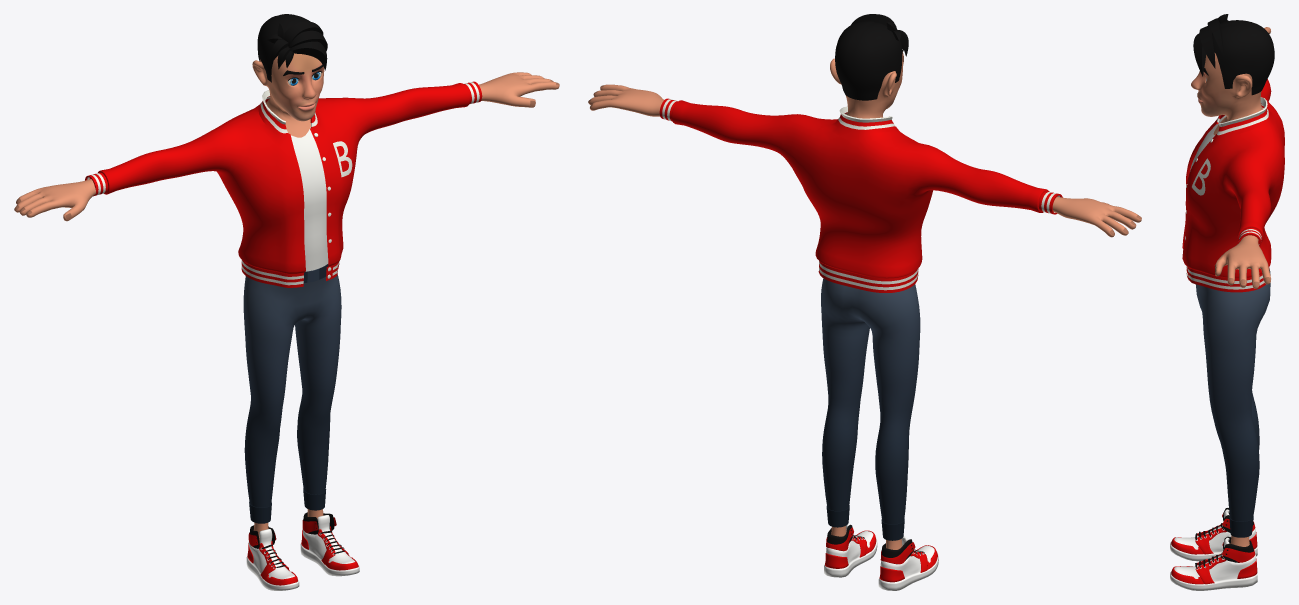
Rendered from Character_3.obj.
3 views of the same model, side by side, from view 1: azimuth 30°, elevation 25°; view 2: azimuth 150°, elevation 25°; view 3: azimuth 270°, elevation 25° (orthographic).
Parts seen in each view (by area): view 1: D_1_mesh.001, D_3_mesh.002, Body_Vucud.006, Shoes_Back.001, D_2_mesh, Hair_NurbsPath.009; view 2: D_1_mesh.001, D_3_mesh.002, Body_Vucud.006, Hair_NurbsPath.009, Shoes_Back.001; view 3: D_1_mesh.001, D_3_mesh.002, Body_Vucud.006, Shoes_Back.001, Hair_NurbsPath.009, D_2_mesh.
Part boxes in pixels (x1=…): D_1_mesh.001: x1=85, y1=81, x2=482, y2=287; D_3_mesh.002: x1=243, y1=264, x2=341, y2=523; Body_Vucud.006: x1=14, y1=53, x2=559, y2=547; Shoes_Back.001: x1=246, y1=512, x2=359, y2=590; D_2_mesh: x1=291, y1=127, x2=328, y2=271; Hair_NurbsPath.009: x1=257, y1=14, x2=327, y2=82; D_1_mesh.001: x1=659, y1=98, x2=1062, y2=292; D_3_mesh.002: x1=821, y1=278, x2=920, y2=540; Body_Vucud.006: x1=588, y1=52, x2=1141, y2=561; Hair_NurbsPath.009: x1=835, y1=14, x2=908, y2=100; Shoes_Back.001: x1=824, y1=524, x2=938, y2=590; D_1_mesh.001: x1=1182, y1=79, x2=1284, y2=292; D_3_mesh.002: x1=1195, y1=268, x2=1270, y2=537; Body_Vucud.006: x1=1191, y1=27, x2=1270, y2=546; Shoes_Back.001: x1=1170, y1=508, x2=1257, y2=590; Hair_NurbsPath.009: x1=1193, y1=14, x2=1274, y2=95; D_2_mesh: x1=1190, y1=108, x2=1263, y2=171.
Bounding box in the file's own units: 7.98 × 7.82 × 1.48.
Materials: 3 (3 with a texture image).
